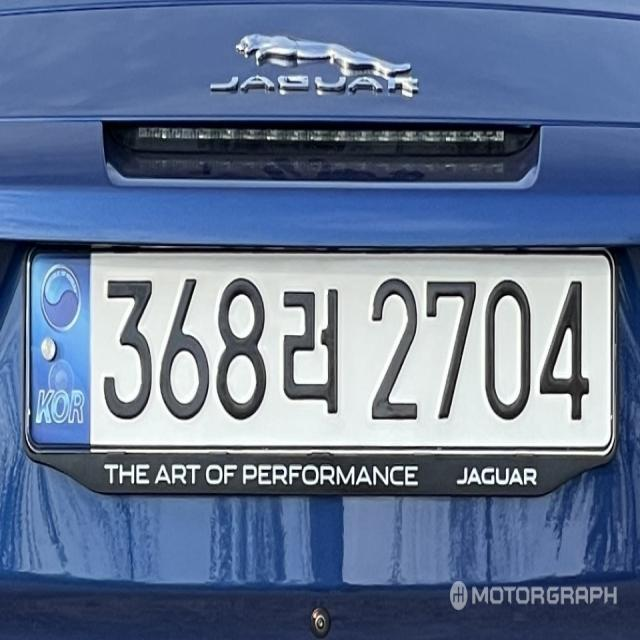car: (19, 244, 625, 515)
